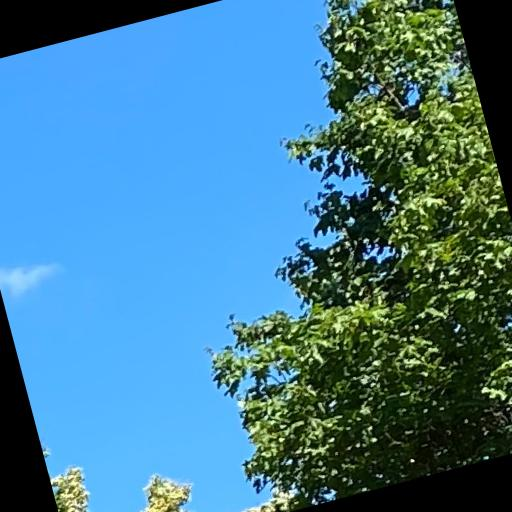tree: (202, 1, 511, 512), (41, 446, 299, 512)
